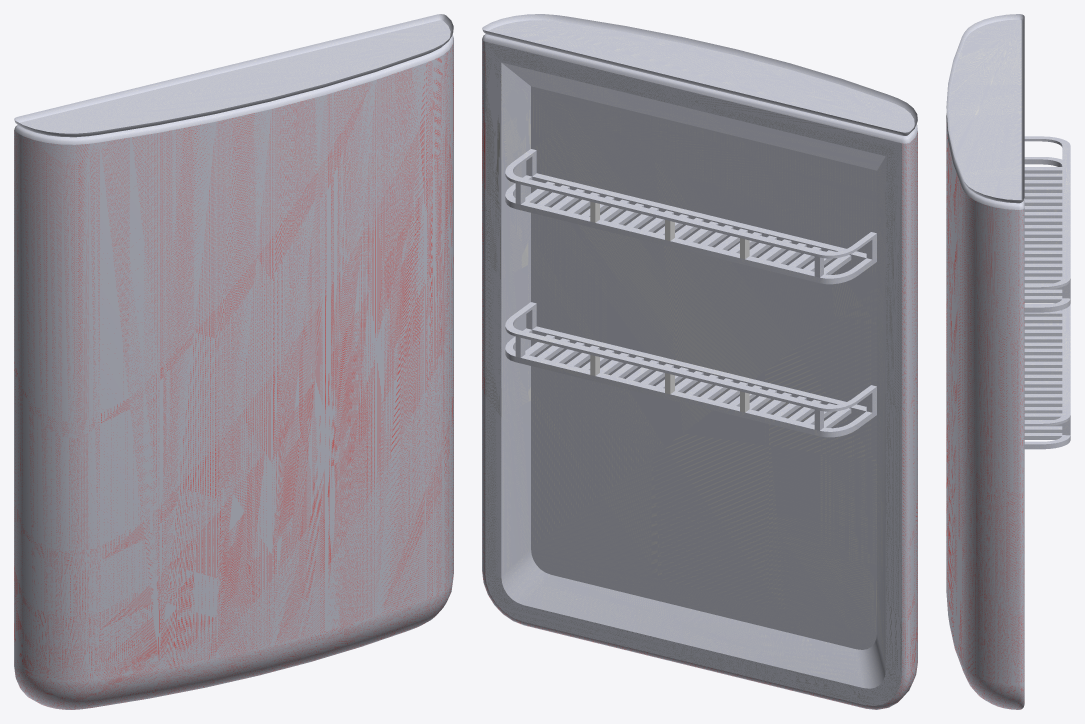
File: board.dae
The picture shows the model from 3 angles, left to right: view 1: azimuth 30°, elevation 25°; view 2: azimuth 150°, elevation 25°; view 3: azimuth 270°, elevation 25°; orthographic projection. The views are drawn at different scales.
Visible parts, largest first — view 1: group_13.015, group_6.012, group_13.013; view 2: group_13.012, group_13.014, group_6.012, group_13.015, group_18.006, group_20.009, group_18.007, group_20.010, group_19.011, group_19.015, group_13.013; view 3: group_13.015, group_6.012, group_20.010, group_18.007, group_19.011, group_19.015, group_13.013, group_20.009, group_18.006.
Part boxes in pixels (x1,y1,x2,y2): group_13.015: [14, 38, 453, 709]; group_6.012: [14, 14, 453, 137]; group_13.013: [14, 35, 453, 144]; group_13.012: [501, 62, 885, 688]; group_13.014: [485, 42, 901, 705]; group_6.012: [482, 14, 917, 135]; group_13.015: [482, 40, 917, 709]; group_18.006: [505, 326, 876, 437]; group_20.009: [505, 173, 876, 284]; group_18.007: [513, 330, 865, 427]; group_20.010: [513, 176, 866, 274]; group_19.011: [505, 149, 876, 277]; group_19.015: [505, 302, 876, 430]; group_13.013: [482, 34, 917, 143]; group_13.015: [946, 119, 1024, 709]; group_6.012: [946, 14, 1024, 203]; group_20.010: [1024, 159, 1062, 303]; group_18.007: [1024, 304, 1062, 439]; group_19.011: [1024, 136, 1070, 298]; group_19.015: [1024, 304, 1070, 435]; group_13.013: [946, 113, 1024, 209]; group_20.009: [1024, 157, 1070, 312]; group_18.006: [1024, 435, 1070, 449].
Size of the model in its own units: 0.8 by 0.2256 by 1.05.
